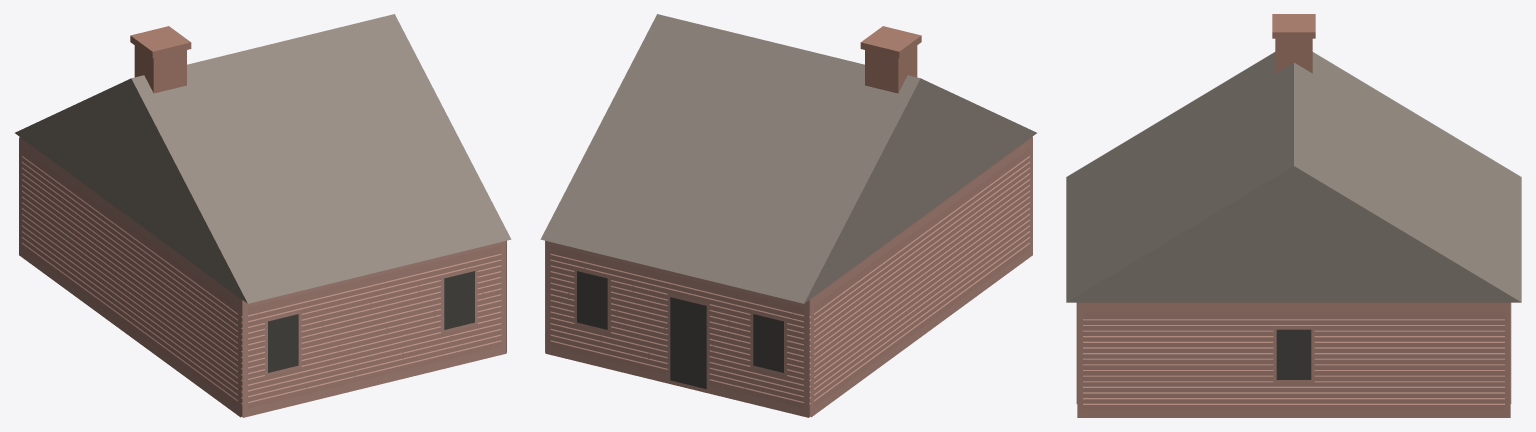
Rendered from recon_1835_north_d5_057__inferred_1835.glb.
The picture shows the model from 3 angles, left to right: view 1: azimuth 30°, elevation 25°; view 2: azimuth 150°, elevation 25°; view 3: azimuth 270°, elevation 25°; orthographic projection. The views are drawn at different scales.
Visible parts, largest first — view 1: recon_1835_north_d5_057__inferred_1835; view 2: recon_1835_north_d5_057__inferred_1835; view 3: recon_1835_north_d5_057__inferred_1835.
Boxes of the visible parts, box(x1,y1,x2,y2) form: recon_1835_north_d5_057__inferred_1835: box(15, 14, 511, 417); recon_1835_north_d5_057__inferred_1835: box(540, 14, 1036, 417); recon_1835_north_d5_057__inferred_1835: box(1066, 14, 1521, 417).
Size of the model in its own units: 6.77 by 7.03 by 10.26.
